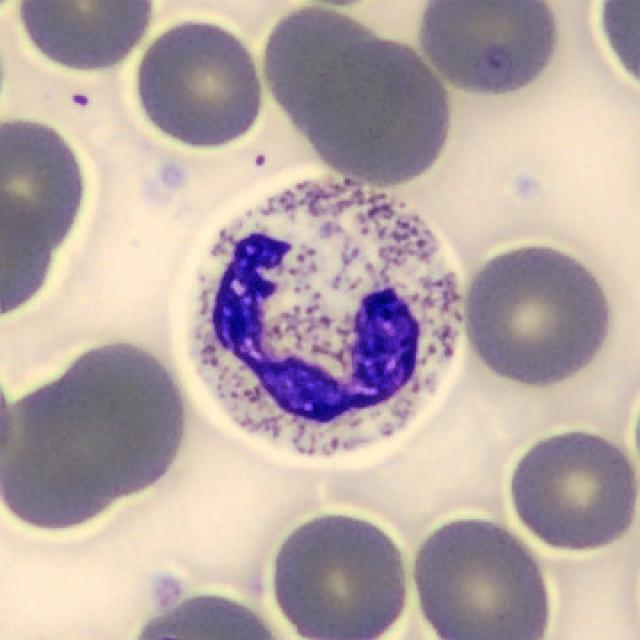Neutrofilo segmentado: (171, 172, 468, 469)
